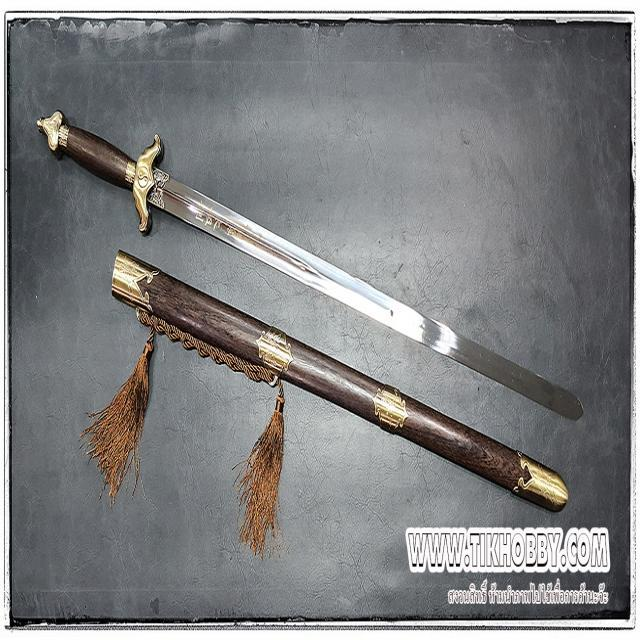long sword: (34, 107, 594, 426), (107, 254, 597, 510)
